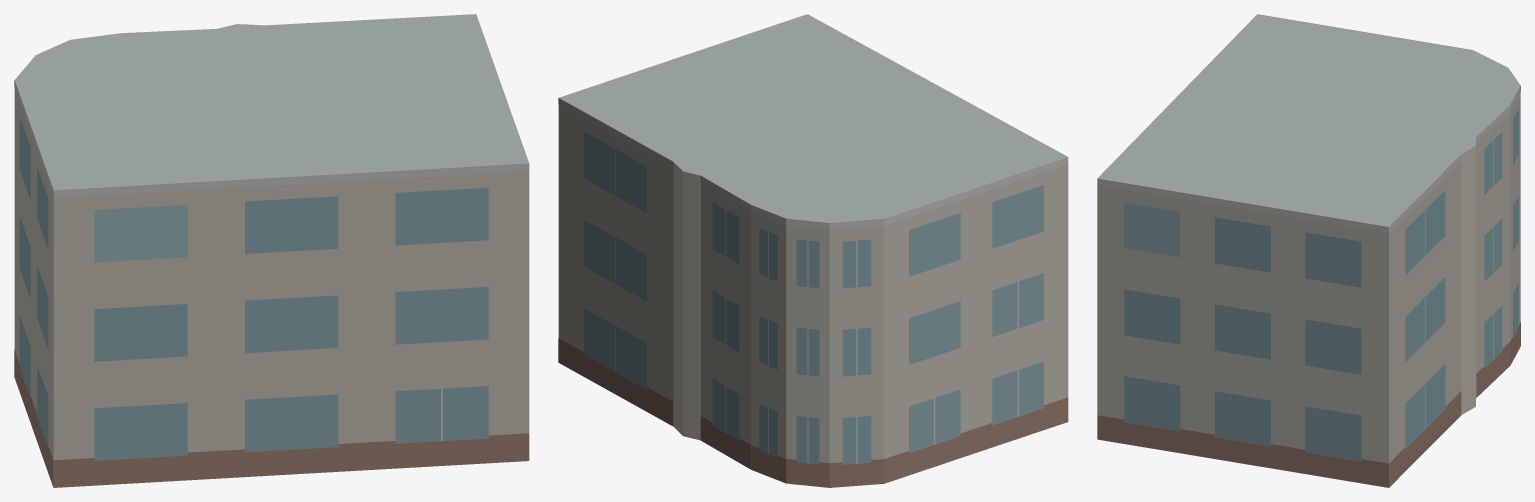
The model's file is survey-upis-32931989.glb.
3 views of the same model, side by side, from view 1: azimuth 30°, elevation 25°; view 2: azimuth 150°, elevation 25°; view 3: azimuth 270°, elevation 25° (orthographic). The views are drawn at different scales.
Parts seen in each view (by area): view 1: survey-upis-32931989.tmp; view 2: survey-upis-32931989.tmp; view 3: survey-upis-32931989.tmp.
Boxes of the visible parts, box(x1,y1,x2,y2) form: survey-upis-32931989.tmp: box(14, 14, 529, 487); survey-upis-32931989.tmp: box(558, 14, 1068, 487); survey-upis-32931989.tmp: box(1097, 14, 1520, 487).
Bounding box in the file's own units: 16.47 × 9.4 × 13.84.
